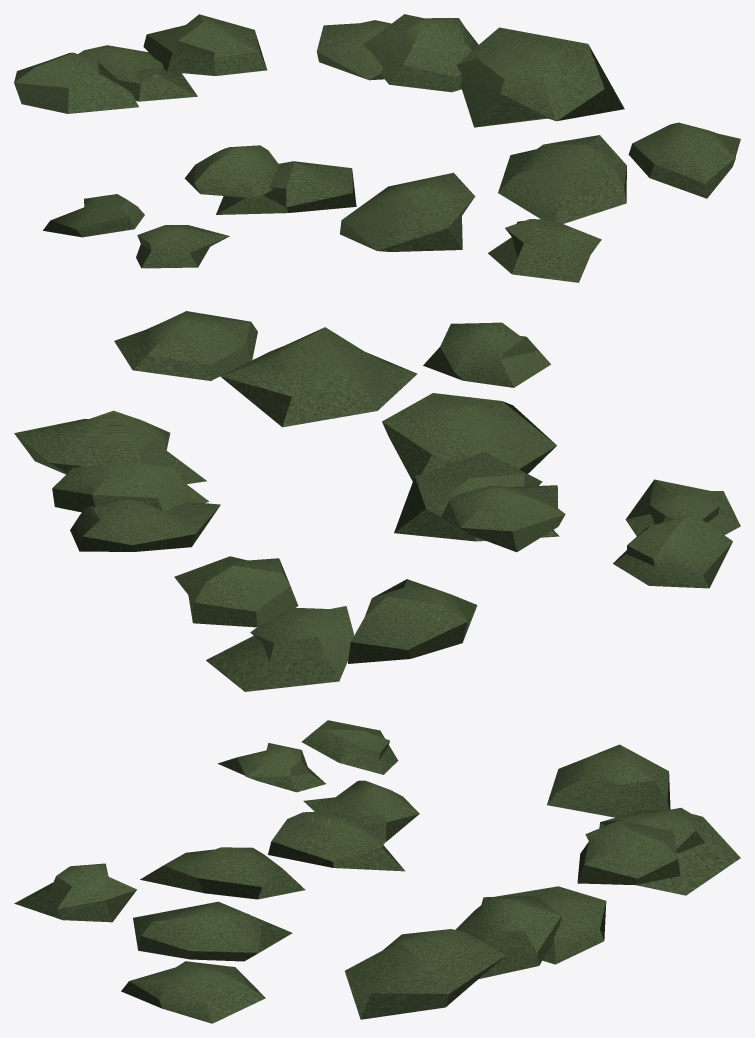
File: brush_mat_3.glb
3 views of the same model, one above another, from view 1: azimuth 30°, elevation 25°; view 2: azimuth 150°, elevation 25°; view 3: azimuth 270°, elevation 25° (orthographic). The views are drawn at different scales.
Parts seen in each view (by area): view 1: brush_mat_3; view 2: brush_mat_3; view 3: brush_mat_3.
Boxes of the visible parts, left/top/right/bottom form: brush_mat_3: left=14, top=14, right=740, bottom=282; brush_mat_3: left=14, top=311, right=740, bottom=691; brush_mat_3: left=14, top=720, right=740, bottom=1023.
Size of the model in its own units: 3.52 by 0.3917 by 3.69.
1 material, 1 textured.
